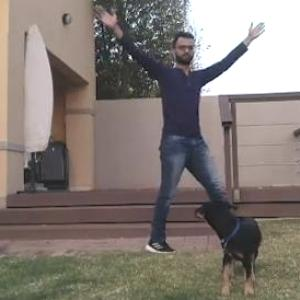takeoff: (91, 4, 269, 252)
